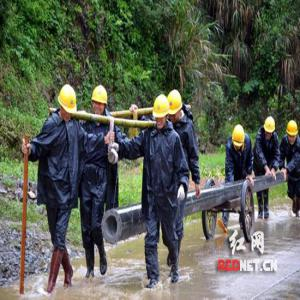yellow: (59, 84, 78, 123), (91, 86, 110, 121), (154, 96, 169, 131), (168, 90, 183, 125), (286, 119, 300, 147), (233, 124, 246, 152), (264, 116, 276, 140)
